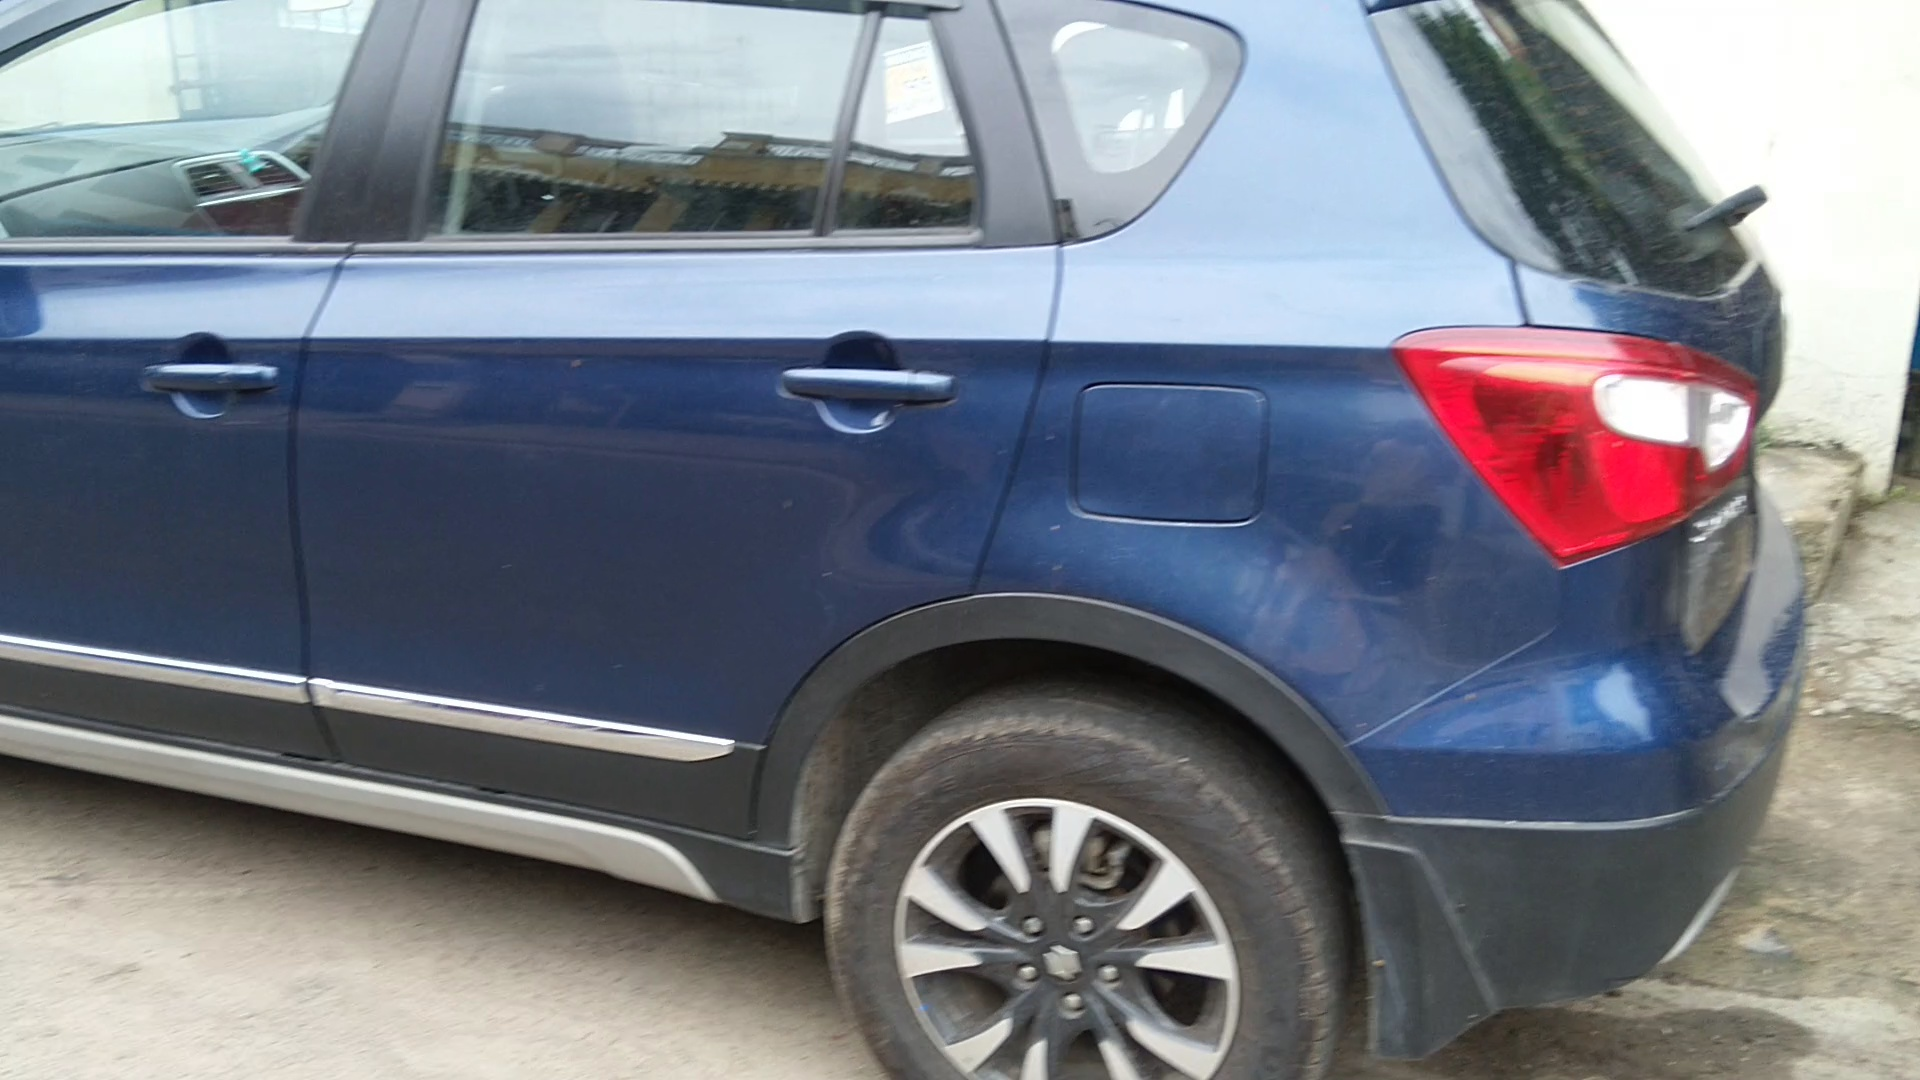alloy_wheel: (853, 675, 1346, 1080)
